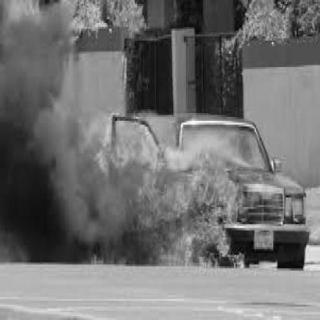Fire: (128, 116, 246, 268)
Smoke: (10, 51, 118, 262)
